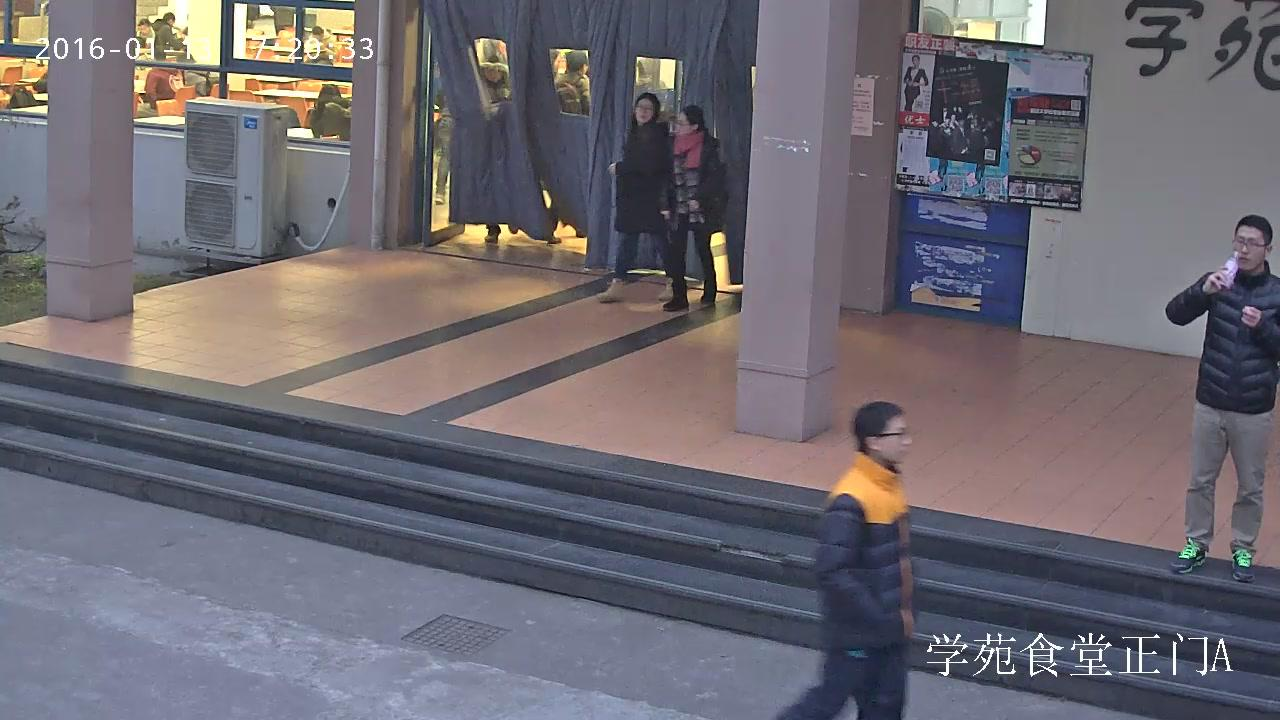person: (774, 400, 919, 720), (1166, 214, 1280, 583), (596, 91, 680, 302), (657, 104, 726, 311), (544, 51, 591, 246), (475, 54, 519, 243), (308, 83, 350, 140), (434, 96, 454, 203), (139, 66, 183, 113), (152, 12, 185, 61), (902, 54, 929, 110), (307, 25, 336, 59)
